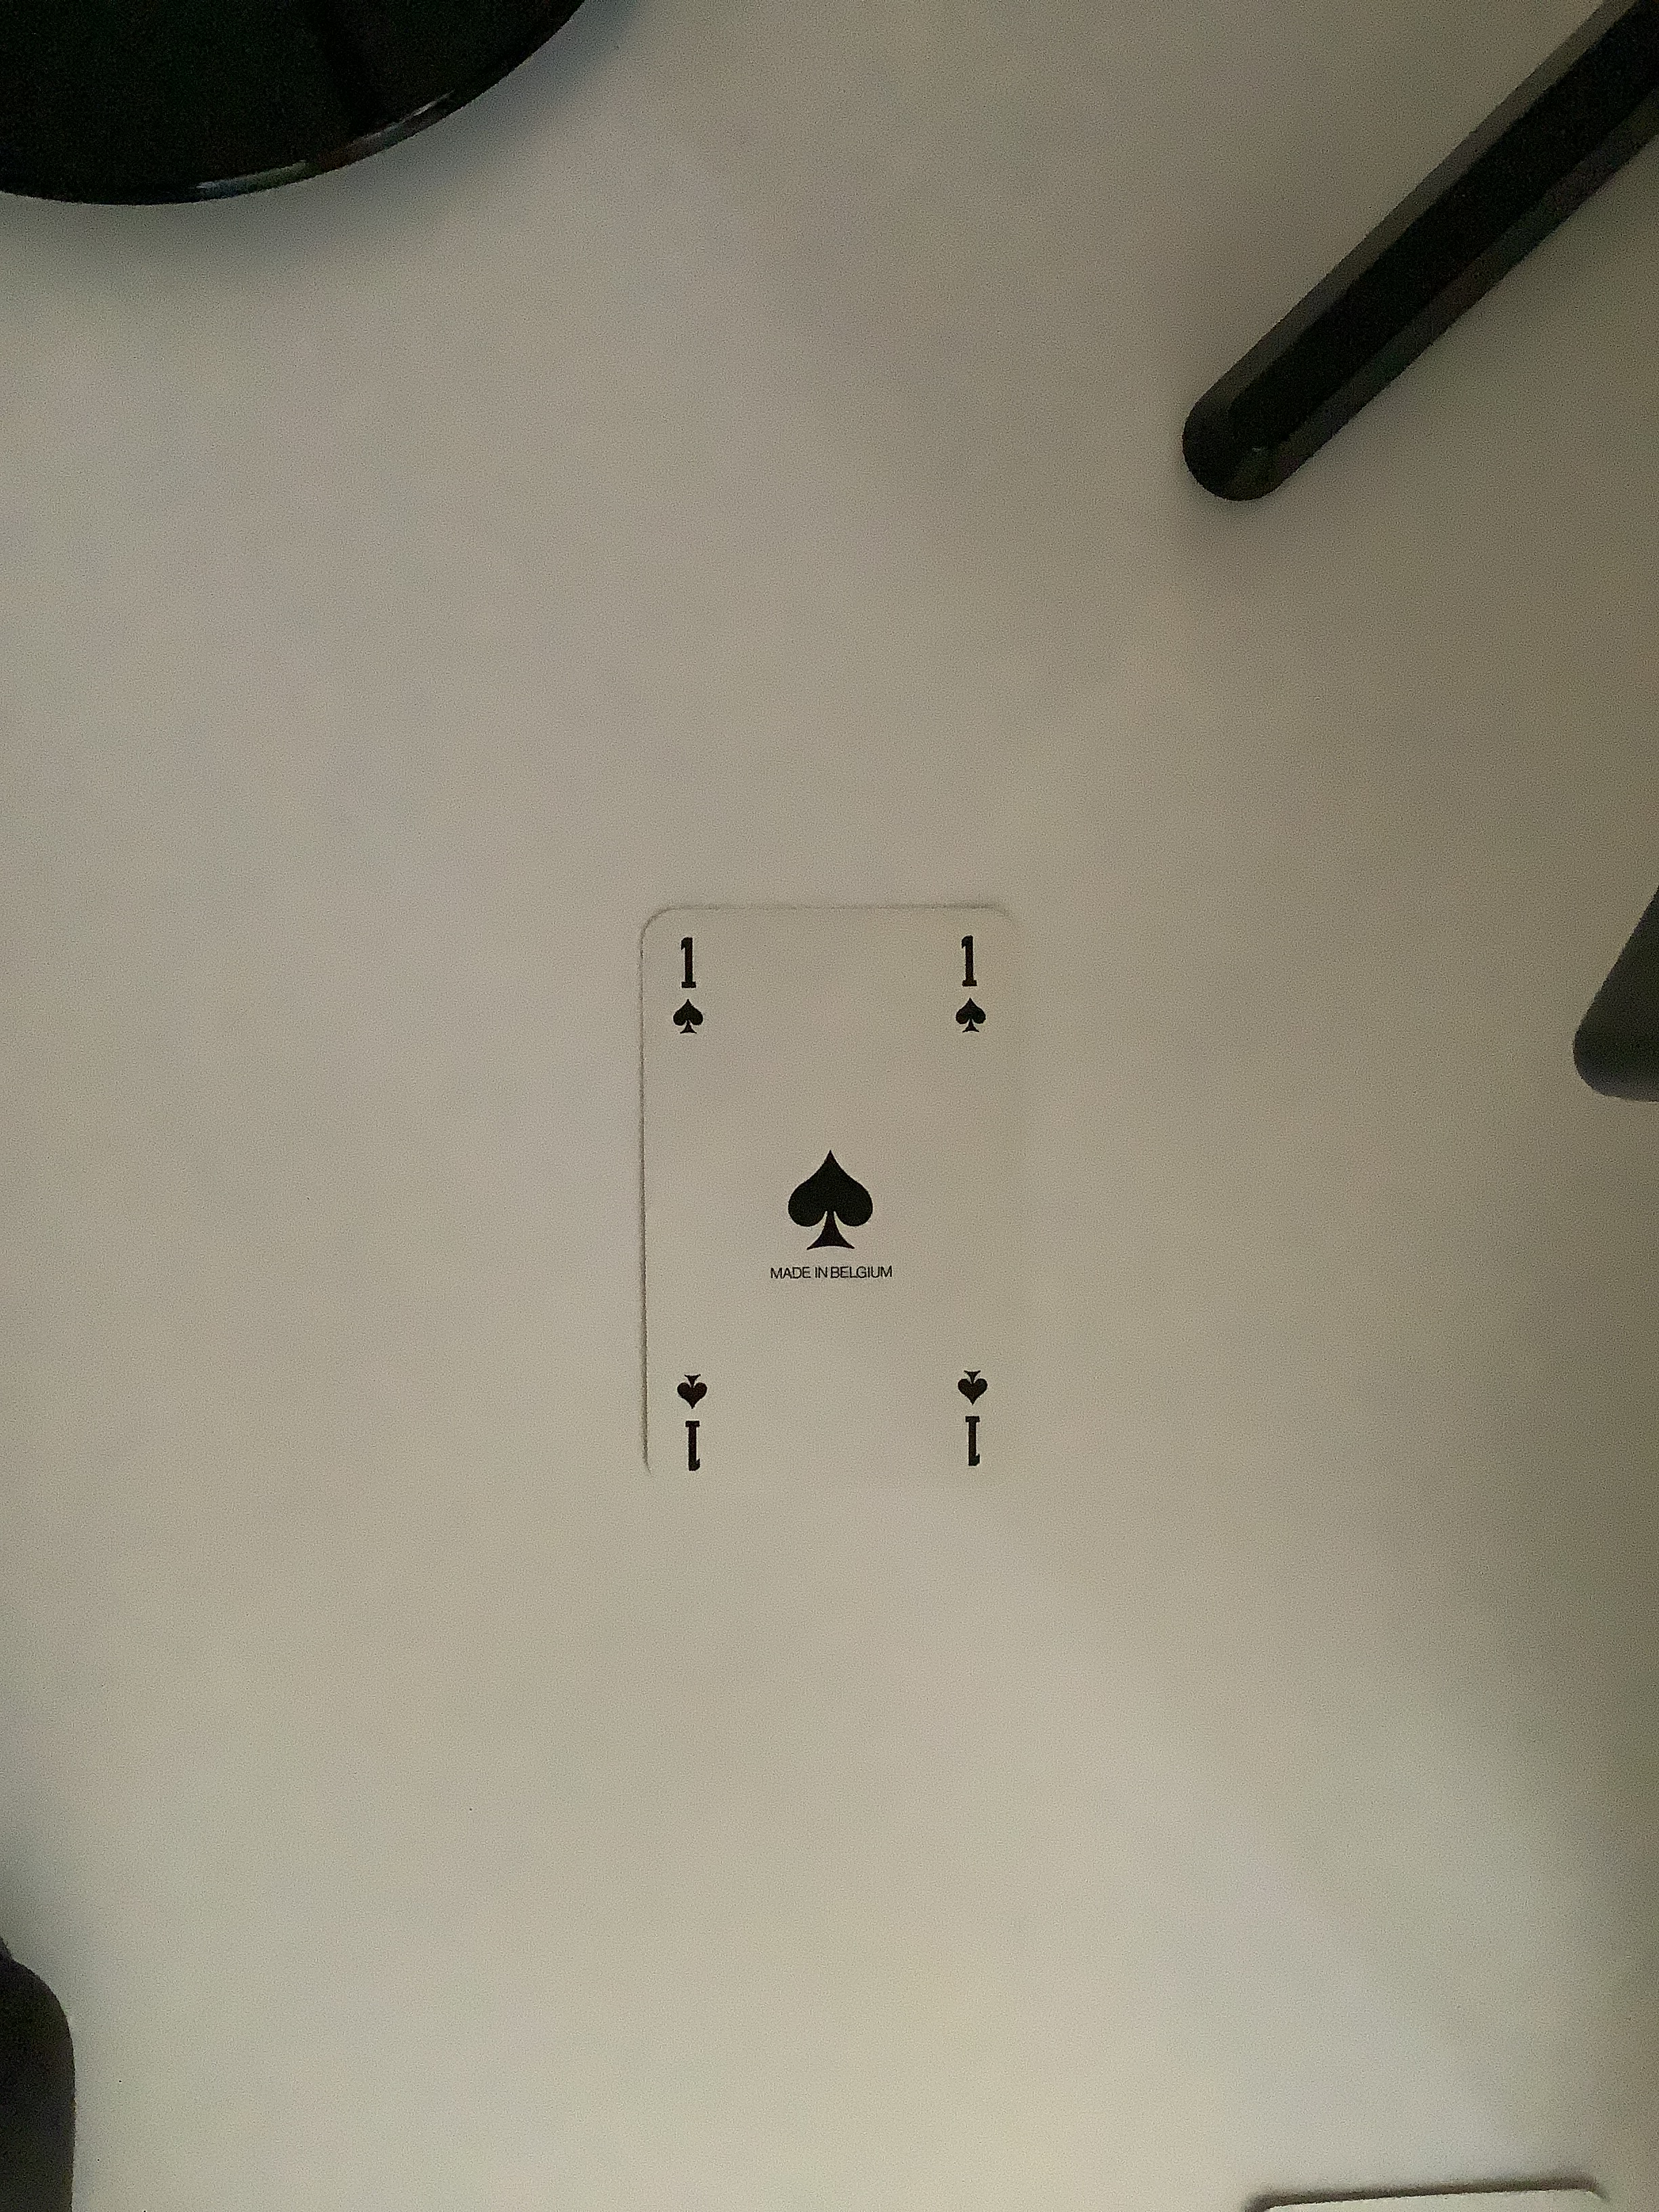♠ 1: (610, 887, 1060, 1517)
